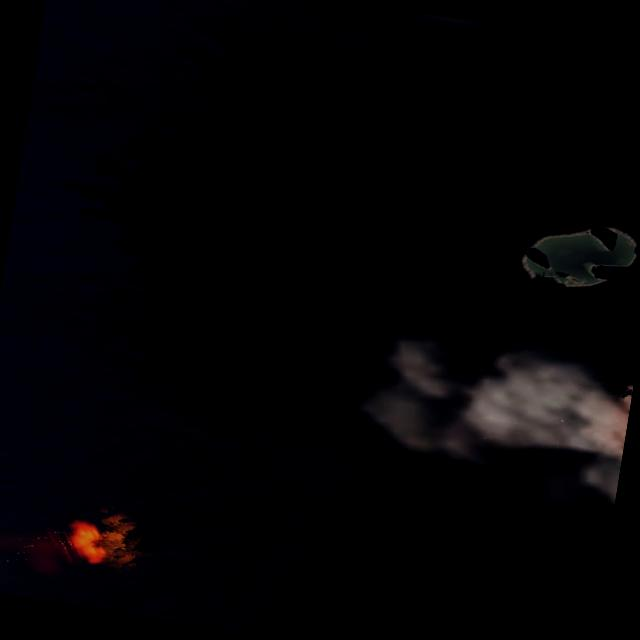fire: (62, 509, 130, 566)
smoke: (333, 315, 636, 581), (0, 514, 73, 602)
